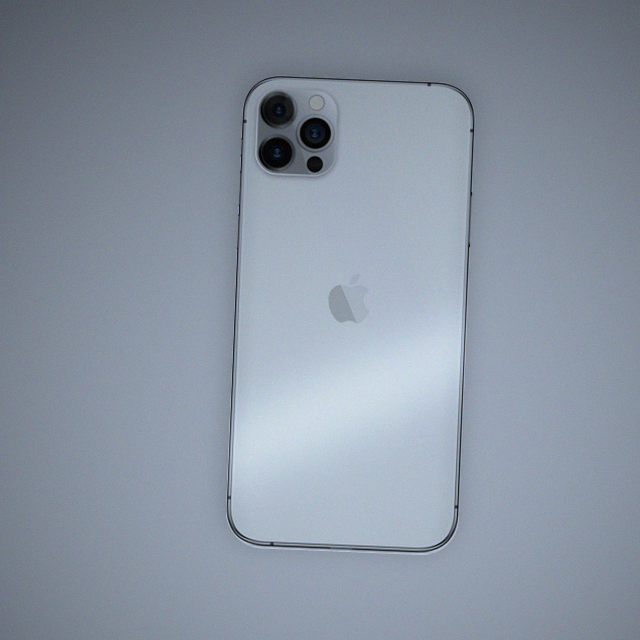iphone_12pro_silver: (202, 50, 493, 595), (248, 83, 340, 186)
